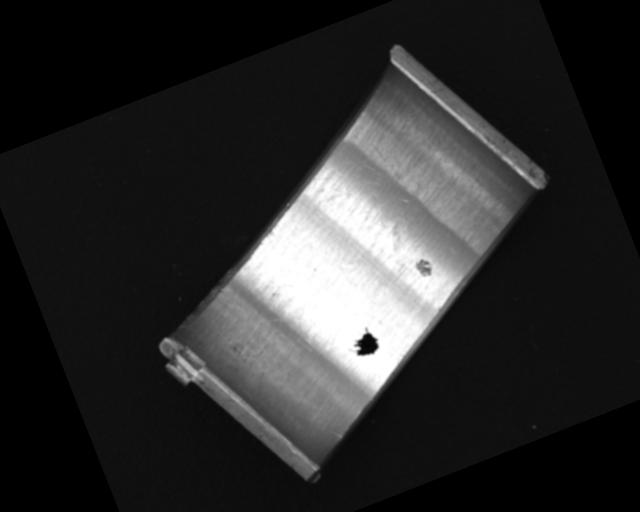blot: (341, 325, 382, 363)
bruise: (411, 254, 436, 281)
nick: (329, 427, 343, 443)
